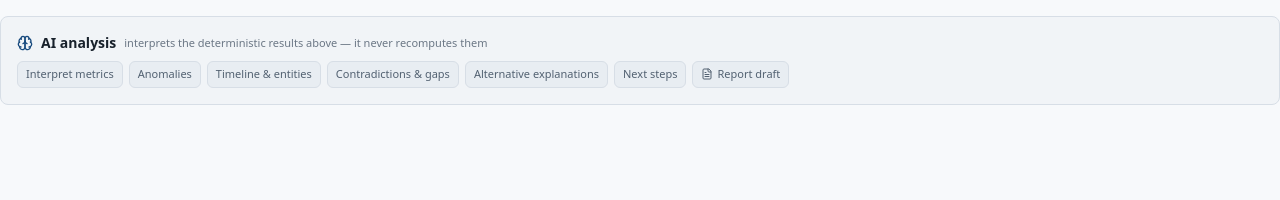
AnalysisPanel › drops the previous answer when a new run starts
The width and height of the screenshot is (1280, 200).
Click the button with test id "analysis-action-interpret" at (70,74), box [17,61,123,88]
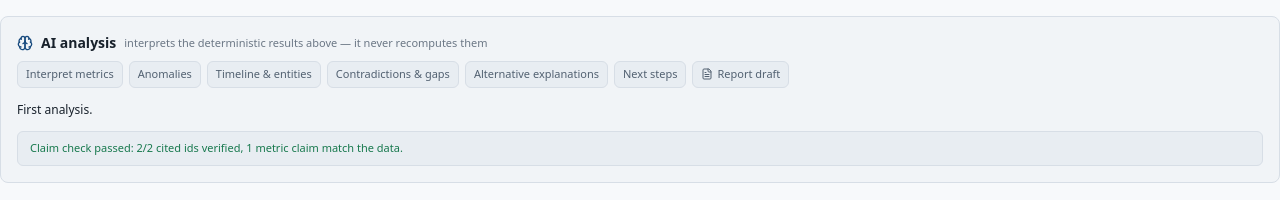
Check: the element with test id "analysis-answer" reads "First analysis.", box [17,100,92,118]
Click the button with test id "analysis-action-anomalies" at (165,74), box [129,61,201,88]
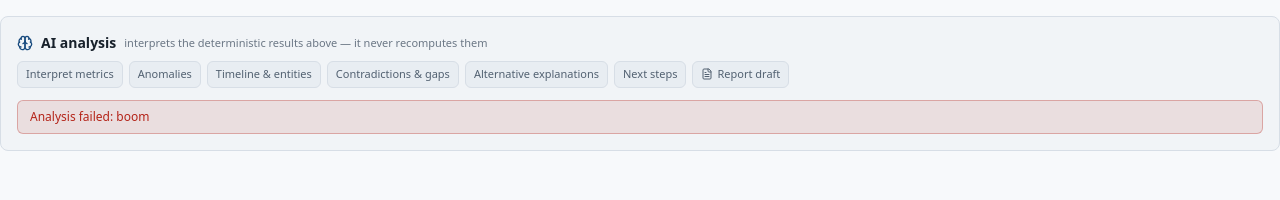
Check: the message "Analysis failed: boom" is shown, box [17,100,1263,134]
Check: the element with test id "analysis-answer" is gone
